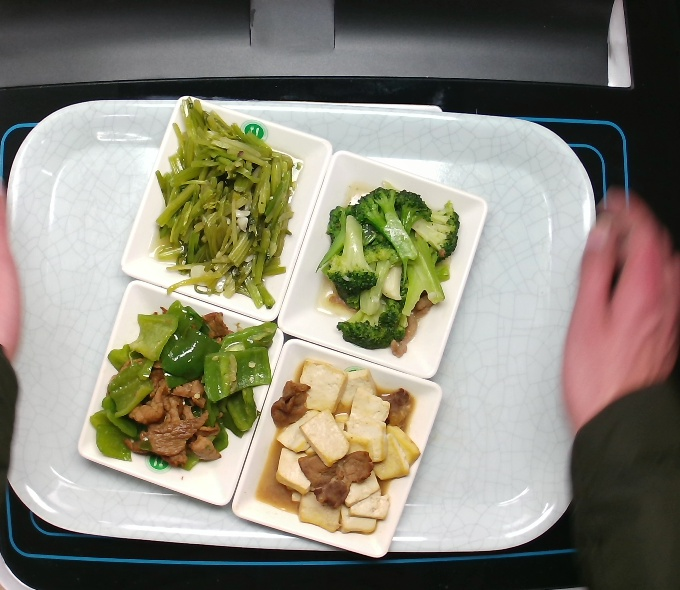wcq-DouFuRouPian: (265, 350, 428, 534)
wcq-QinCai: (148, 97, 300, 321)
wcq-QingJiaoChaoRou: (98, 302, 269, 469)
wcq-XiLanHua: (316, 179, 468, 357)
